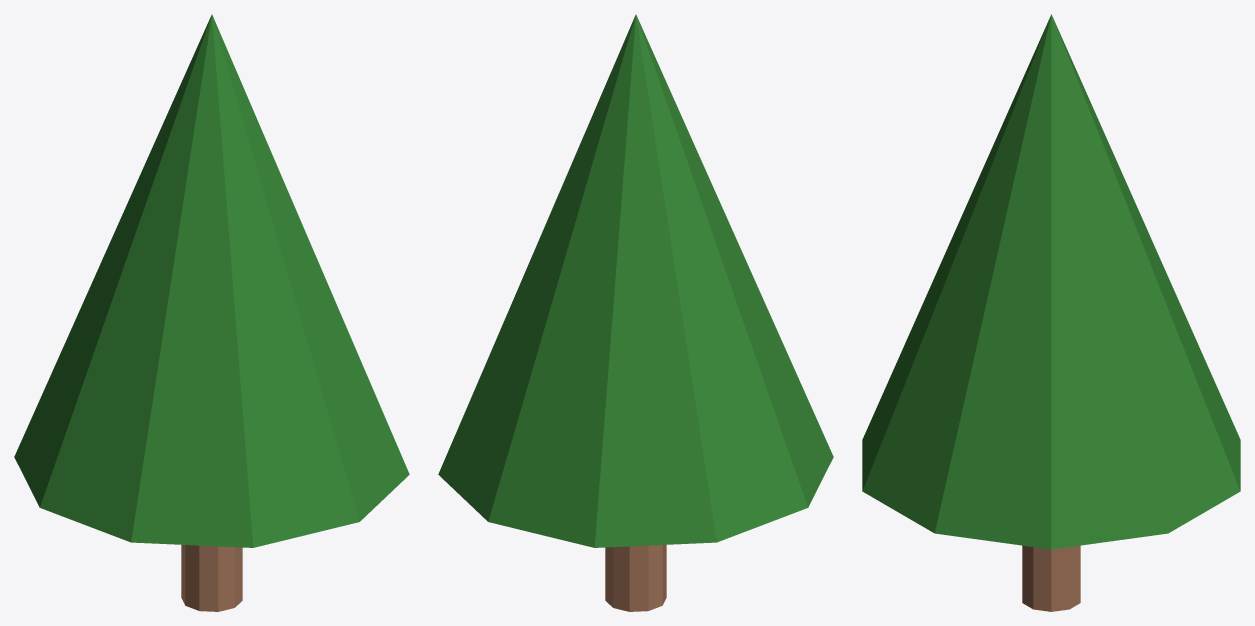
Rendered from Tree01.fbx.
3 views of the same model, side by side, from view 1: azimuth 30°, elevation 25°; view 2: azimuth 150°, elevation 25°; view 3: azimuth 270°, elevation 25° (orthographic).
Visible parts, largest first — view 1: polySurface1; view 2: polySurface1; view 3: polySurface1.
Part boxes in pixels (bbox=[...]): polySurface1: bbox=[14, 14, 409, 611]; polySurface1: bbox=[438, 14, 833, 611]; polySurface1: bbox=[862, 14, 1240, 611].
Size of the model in its own units: 12.93 by 21 by 12.3.
